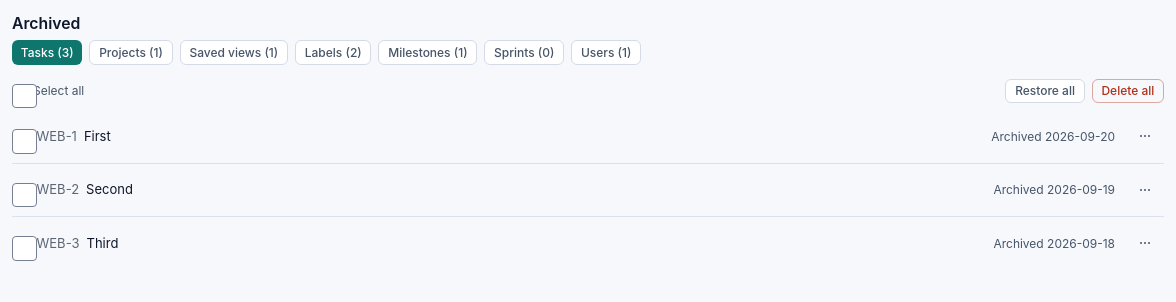
Test: Settings → Archived: restore (SET-53) › restores one task from its row with a bulk unarchive of exactly that task
Expected: the list item with test id "archived-row-T2" is shown, [12,164,1164,217]
Click the button named "Actions for archived task WEB-2 Second": click(1145, 190) [1126,170,1164,209]
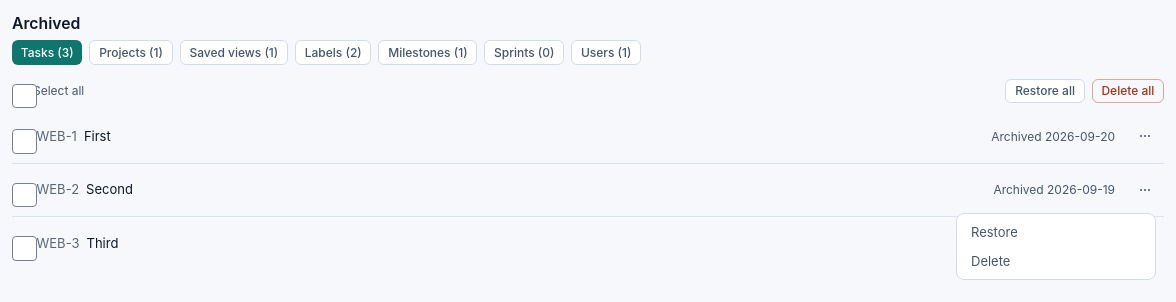
Click the menu item "Restore": click(1056, 232) [960,218,1152,247]
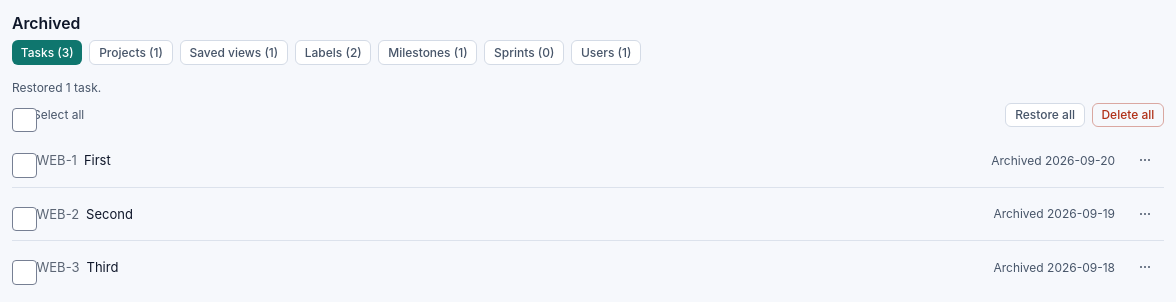
Expected: the message with test id "archived-outcome" reads "Restored 1 task.", [12,80,101,94]
